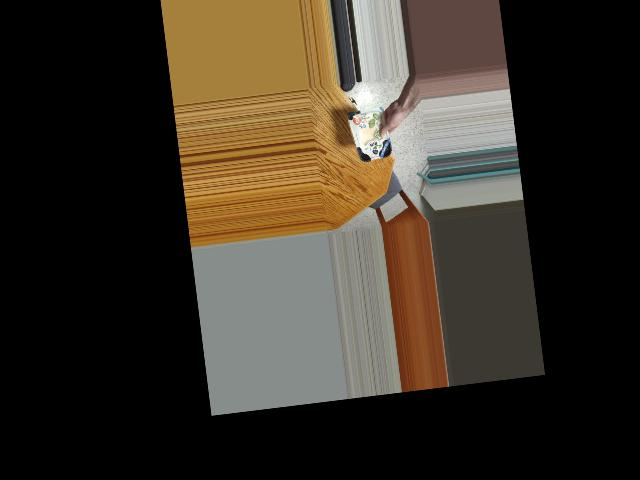cheese: (350, 110, 392, 160)
